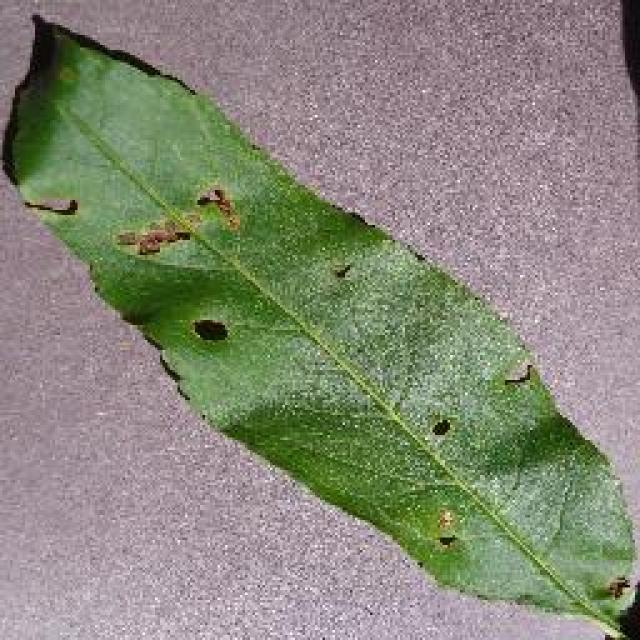Peach_Bacterial_Spot: (80, 135, 555, 490)
